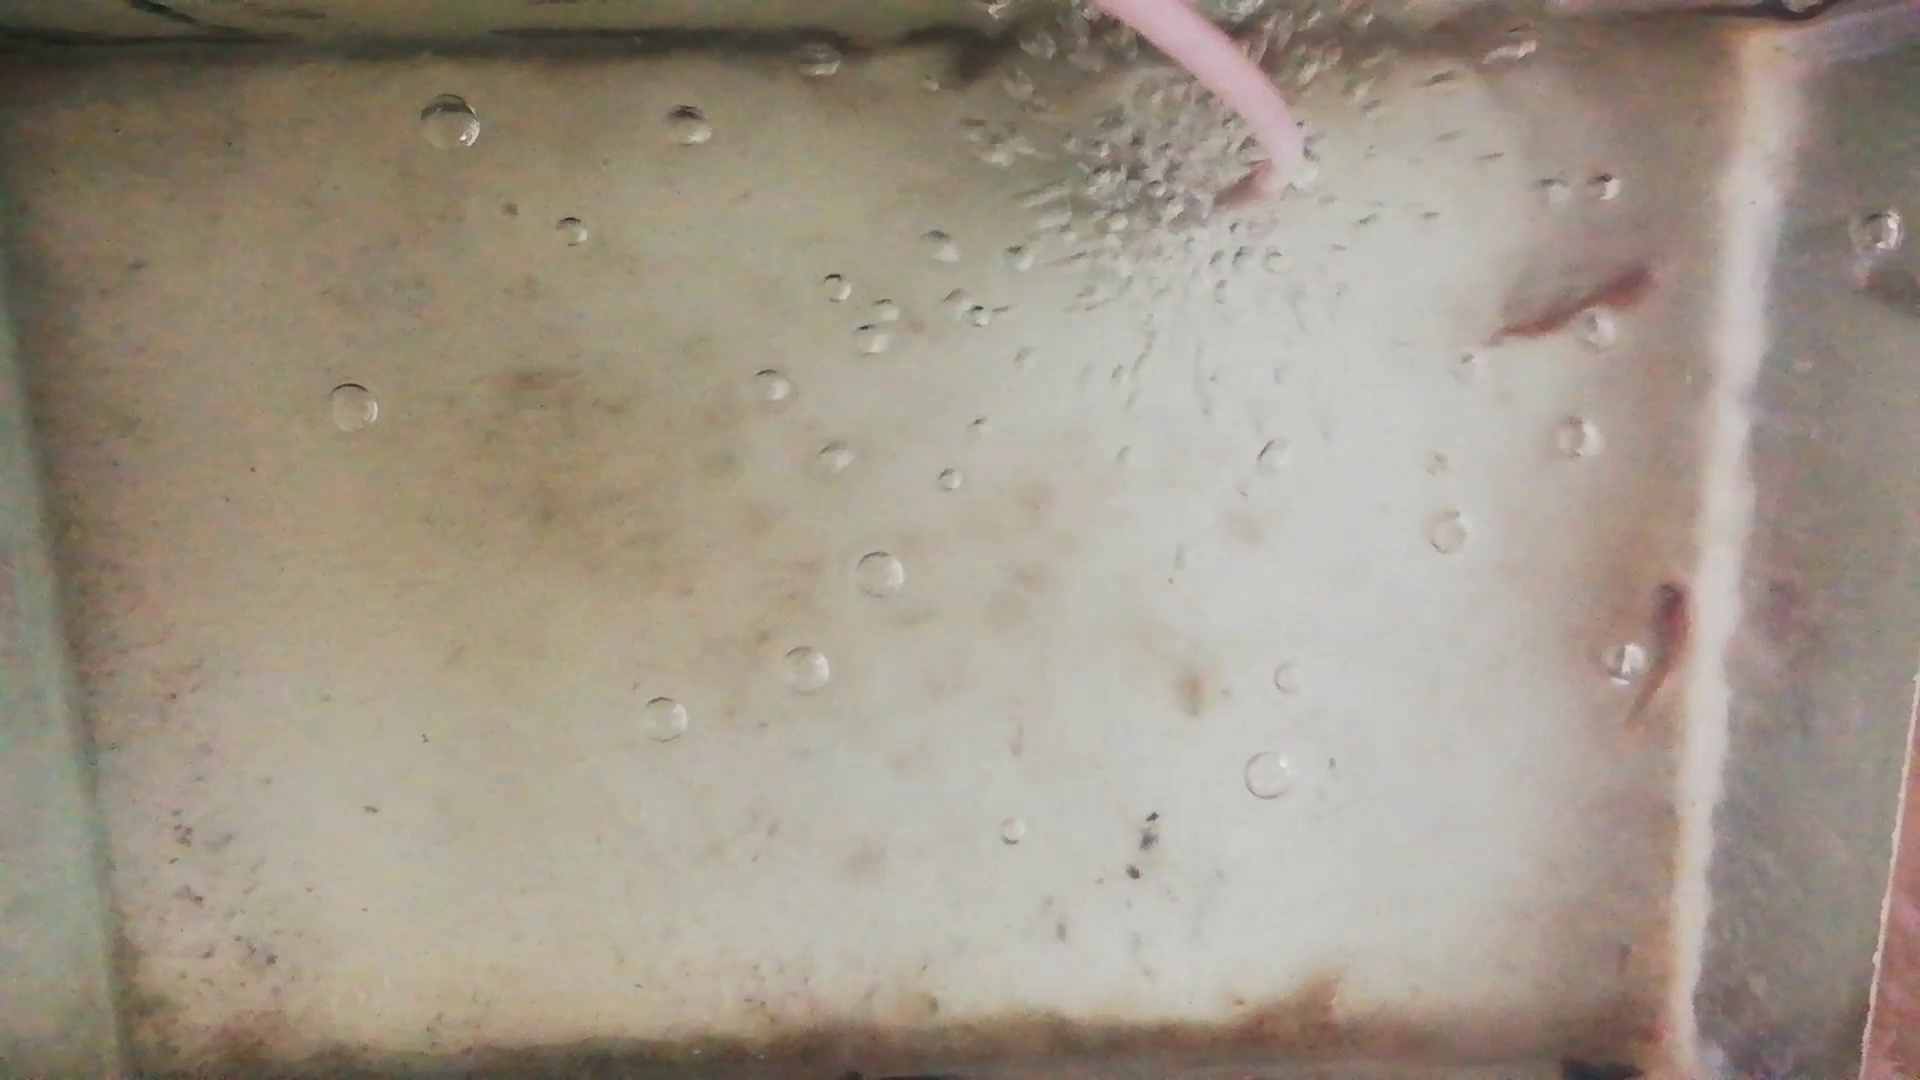fish: (1487, 258, 1667, 356), (1630, 582, 1695, 723)
